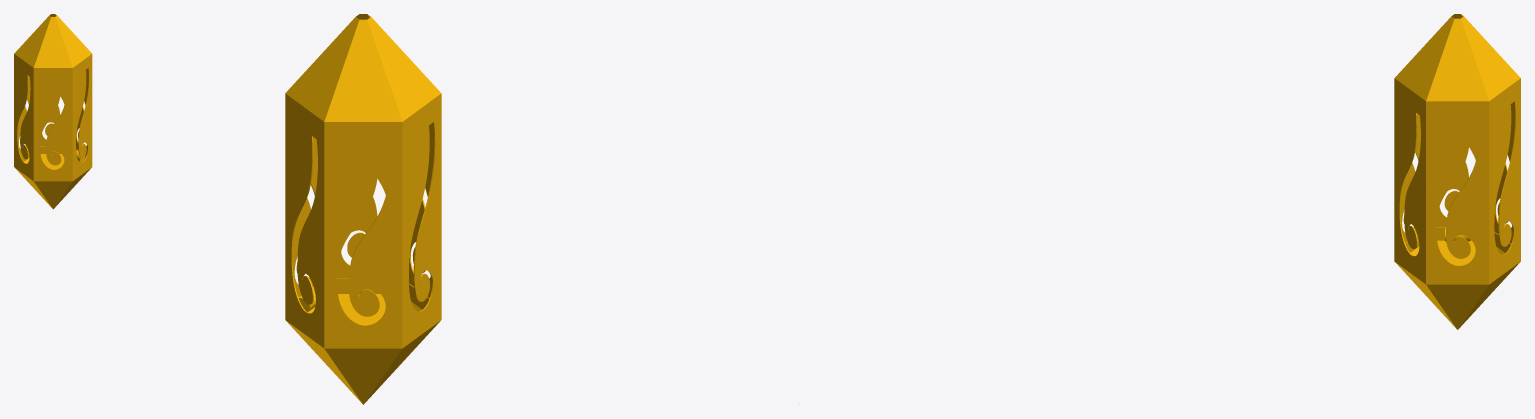
Rendered from GEMAS.gltf.
3 renders of one model, left to right at view 1: azimuth 30°, elevation 25°; view 2: azimuth 150°, elevation 25°; view 3: azimuth 270°, elevation 25°, orthographic. The views are drawn at different scales.
Parts seen in each view (by area): view 1: 3DGeom-19; view 2: 3DGeom-19; view 3: 3DGeom-19.
Part boxes in pixels (bbox=[...]): 3DGeom-19: bbox=[14, 14, 92, 209]; 3DGeom-19: bbox=[285, 14, 441, 404]; 3DGeom-19: bbox=[1394, 14, 1520, 329].
Size of the model in its own units: 217 by 848 by 1427.
